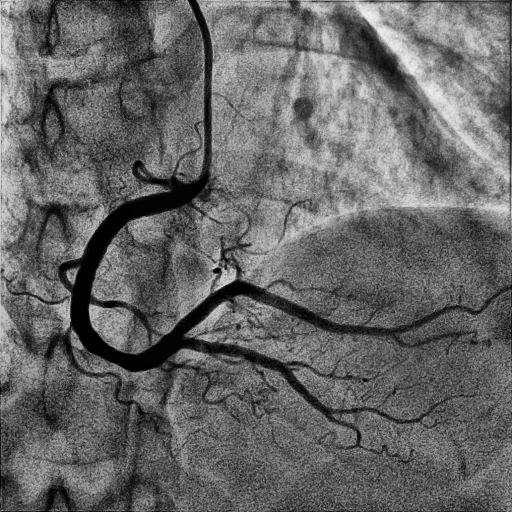pborca: (176, 279, 491, 336)
pda: (185, 337, 435, 424)
rca: (69, 184, 196, 372)
